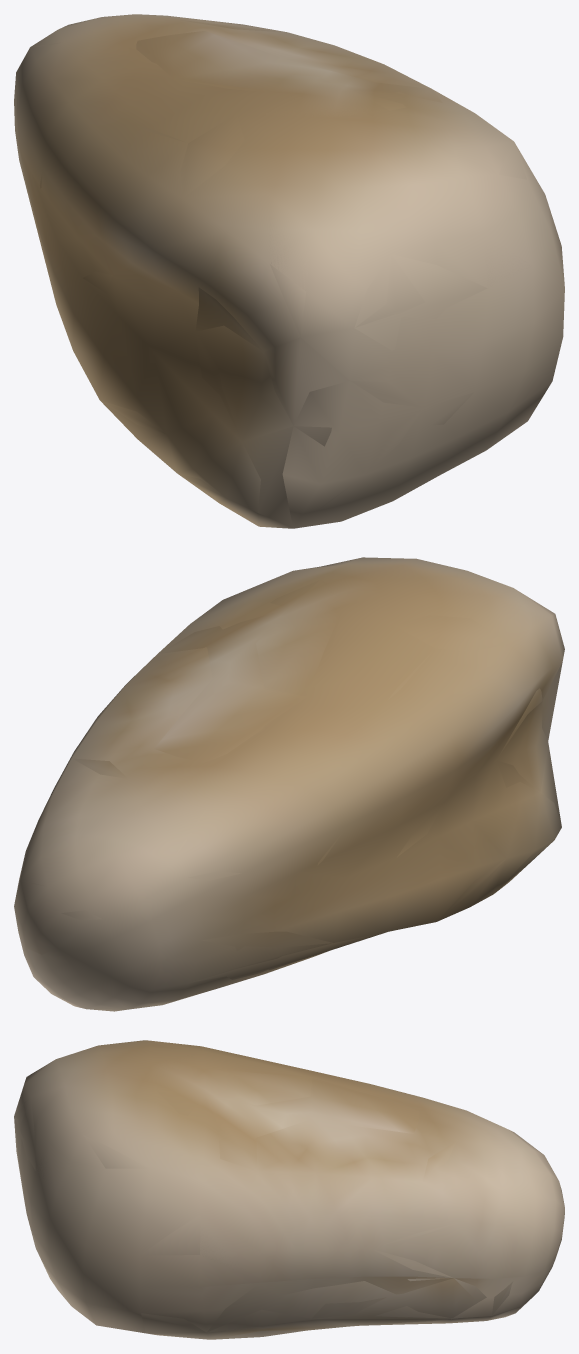
Rendered from R carpi radiale.fbx.
3 renders of one model, top to bottom at view 1: azimuth 30°, elevation 25°; view 2: azimuth 150°, elevation 25°; view 3: azimuth 270°, elevation 25°, orthographic. The views are drawn at different scales.
Visible parts, largest first — view 1: R carpi radiale, R carpi radiale low; view 2: R carpi radiale, R carpi radiale low; view 3: R carpi radiale, R carpi radiale low.
Boxes of the visible parts, x1,y1,x2,y2 form: R carpi radiale: [14, 14, 564, 528]; R carpi radiale low: [16, 18, 531, 528]; R carpi radiale: [14, 557, 564, 1011]; R carpi radiale low: [24, 580, 564, 1009]; R carpi radiale: [14, 1040, 564, 1339]; R carpi radiale low: [14, 1040, 564, 1339].
Size of the model in its own units: 3.36 by 2.71 by 5.76.
